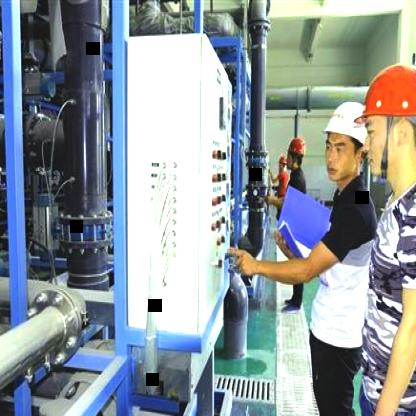helmet: (359, 63, 416, 182), (320, 96, 374, 186), (286, 134, 306, 171), (276, 154, 286, 174)
